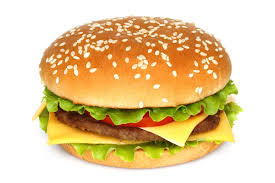hamburger: (33, 14, 244, 170)
